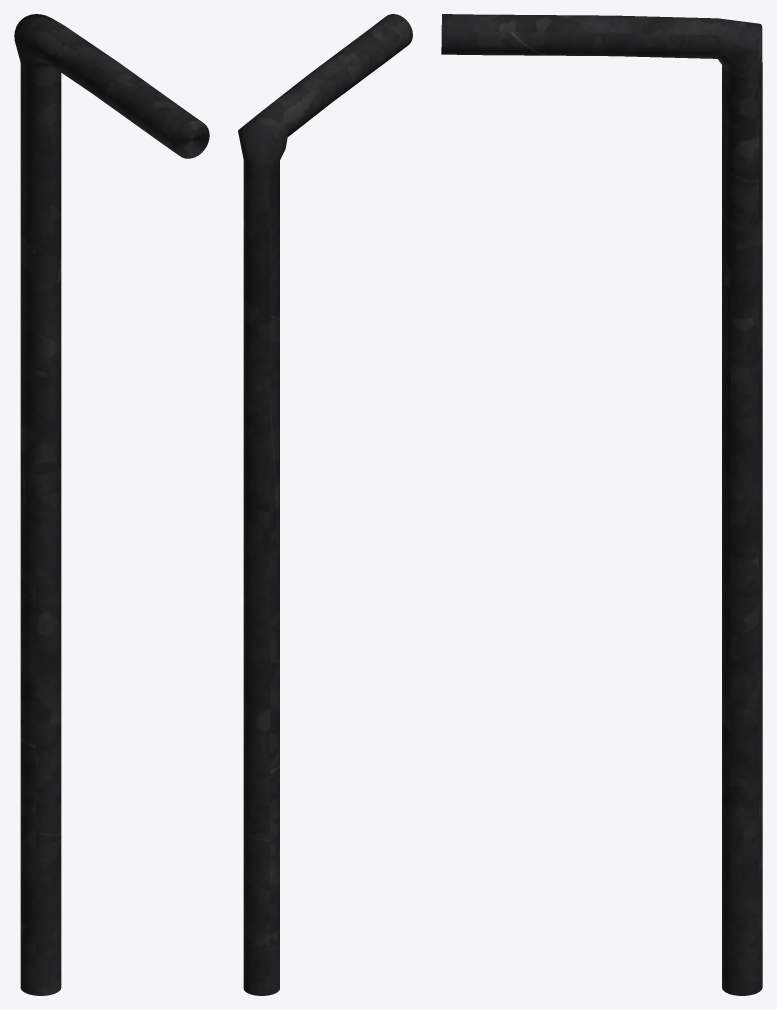
File: StreetLamp.obj
3 renders of one model, left to right at view 1: azimuth 30°, elevation 25°; view 2: azimuth 150°, elevation 25°; view 3: azimuth 270°, elevation 25°, orthographic. The views are drawn at different scales.
Parts seen in each view (by area): view 1: StreetLamp_Cylinder; view 2: StreetLamp_Cylinder; view 3: StreetLamp_Cylinder.
Part boxes in pixels (bbox=[...]): StreetLamp_Cylinder: bbox=[14, 14, 209, 995]; StreetLamp_Cylinder: bbox=[238, 14, 412, 995]; StreetLamp_Cylinder: bbox=[441, 14, 762, 995].
Bounding box in the file's own units: 0.5576 × 10.55 × 3.16.
1 material, 1 textured.
